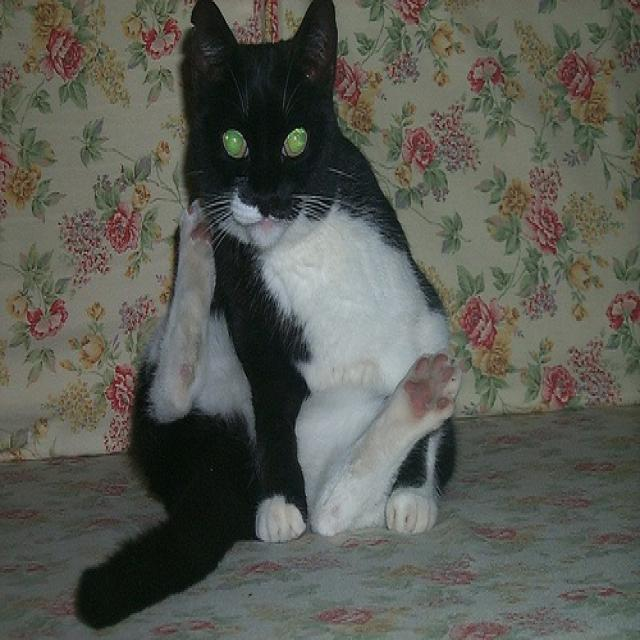cat: (86, 2, 471, 619)
